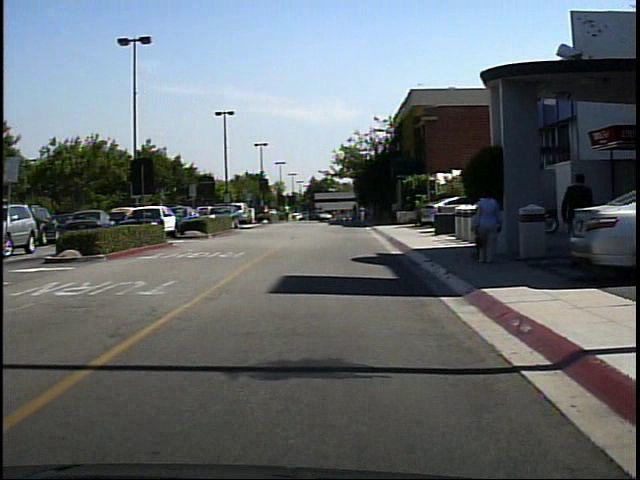person: (560, 163, 609, 275), (475, 185, 507, 266), (481, 189, 504, 264), (358, 204, 371, 228), (290, 201, 300, 226)
